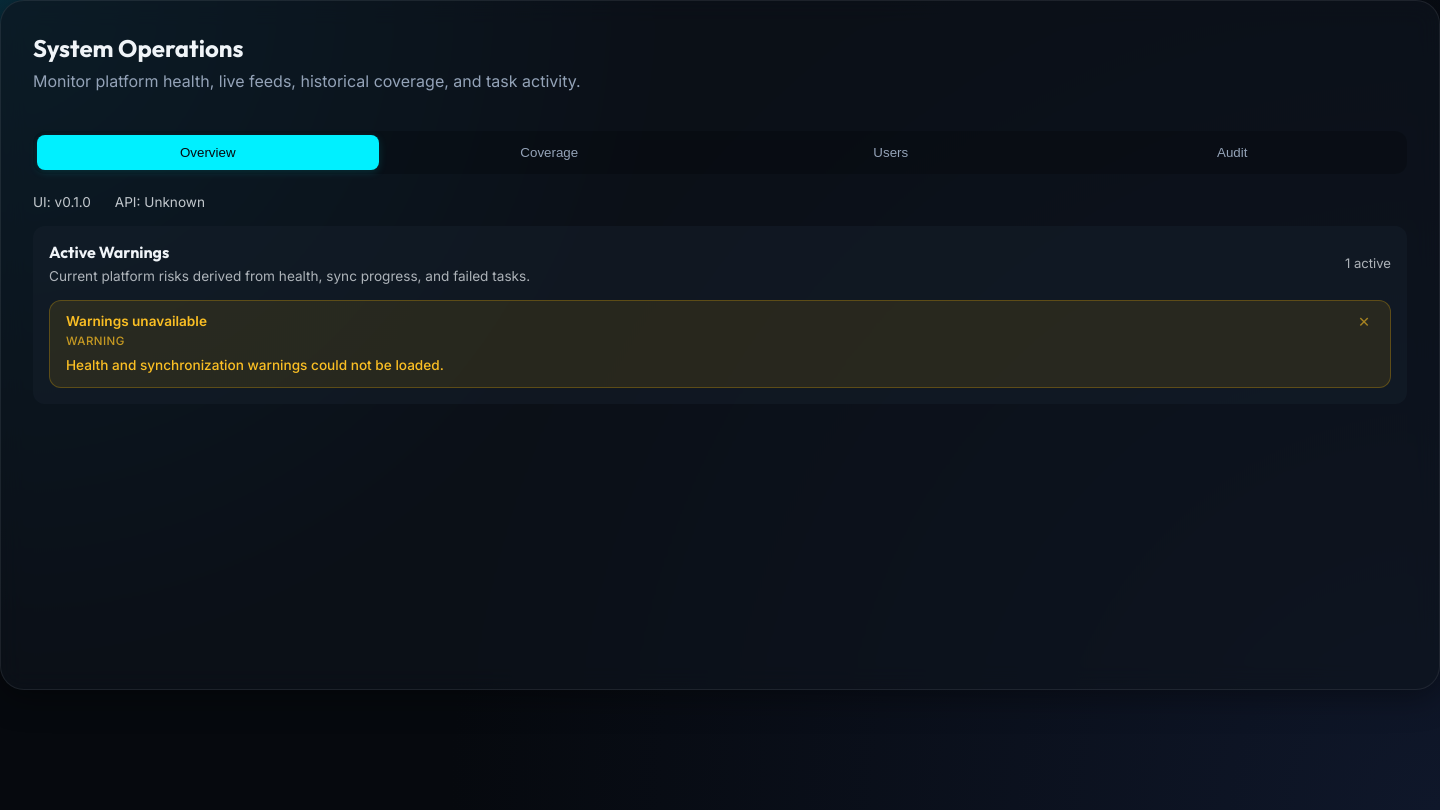
it: SystemPanel › switches to Users tab when clicked
The image size is (1440, 810).
Click the tab "Users".
click(891, 152)  # box [720,135,1062,170]
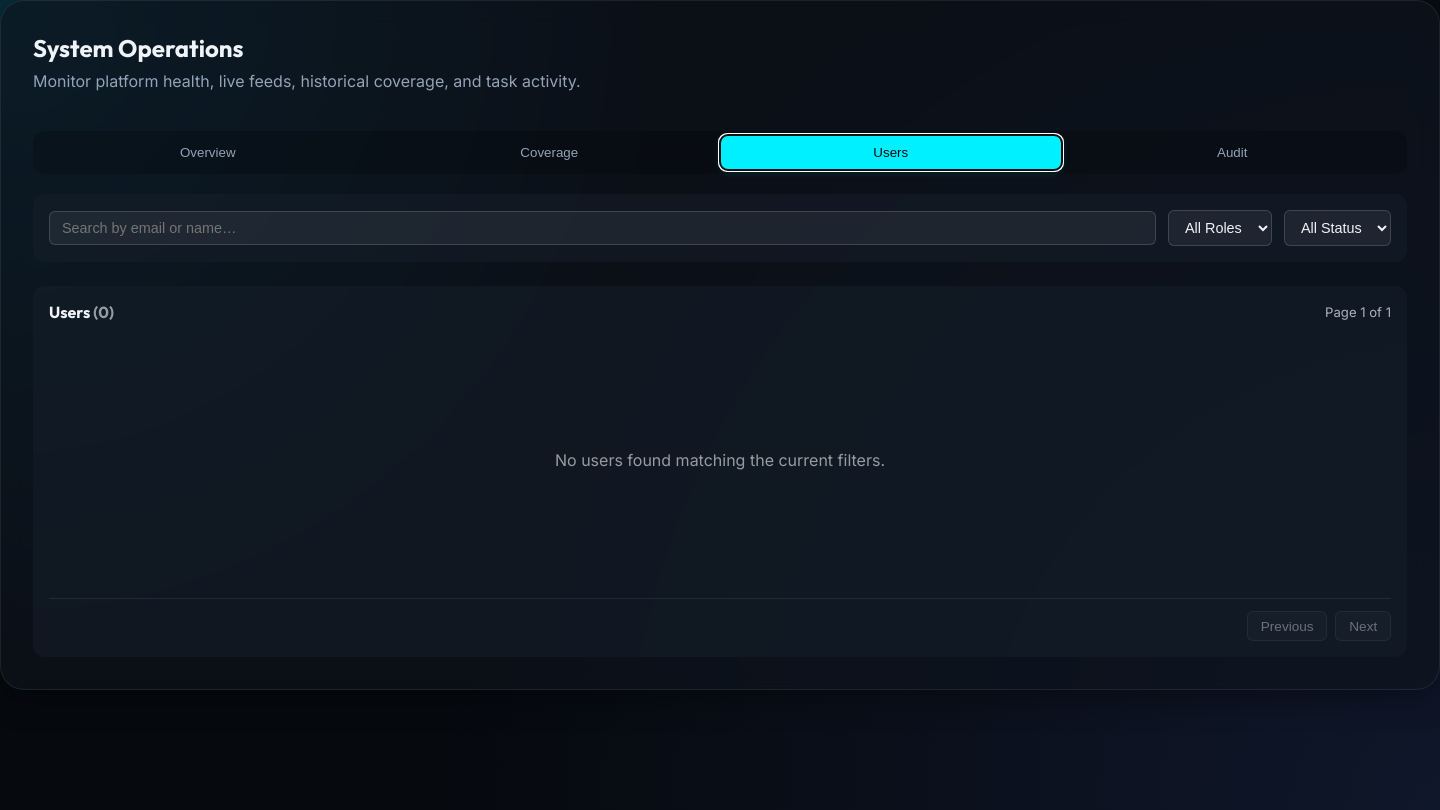
Result: the field with placeholder "Search by email or name…" is shown at [49,211,1156,245]
